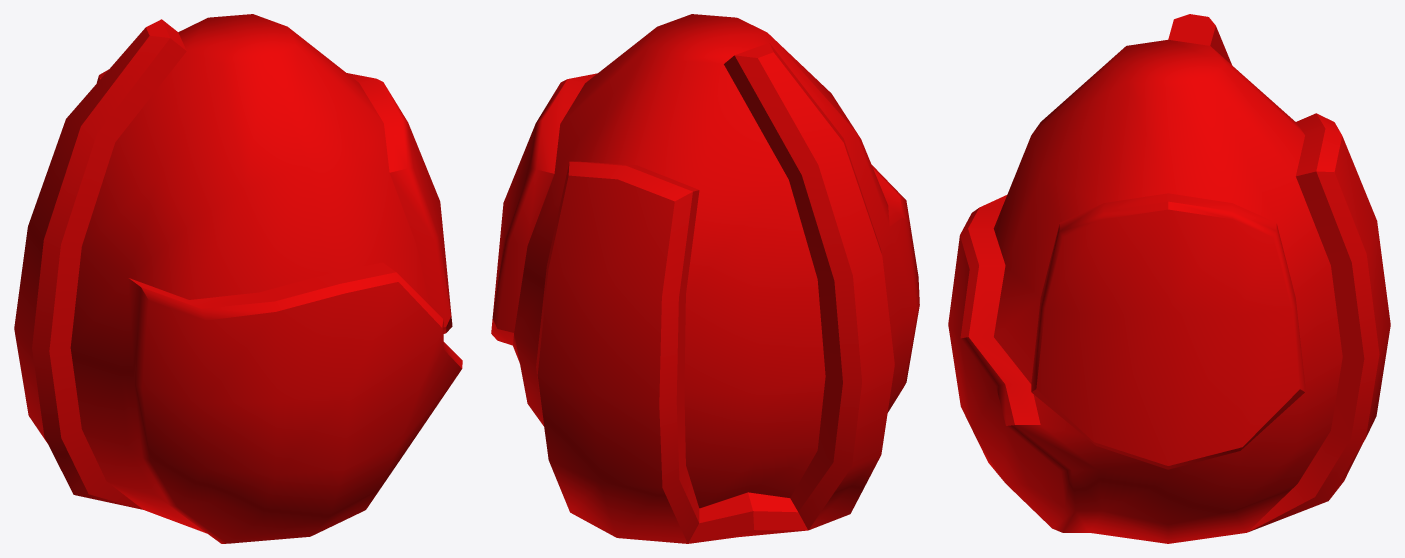
Rendered from SM_pod.fbx.
3 views of the same model, side by side, from view 1: azimuth 30°, elevation 25°; view 2: azimuth 150°, elevation 25°; view 3: azimuth 270°, elevation 25° (orthographic). The views are drawn at different scales.
Visible parts, largest first — view 1: Pod; view 2: Pod; view 3: Pod.
Part boxes in pixels (x1,y1,x2,y2): Pod: (14,14,462,543); Pod: (491,14,919,543); Pod: (948,14,1390,543).
Bounding box in the file's own units: 294 × 339 × 302.
